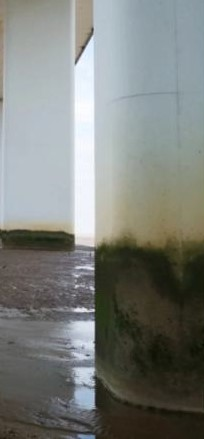Corrosion: (94, 234, 204, 414), (1, 229, 75, 251)
